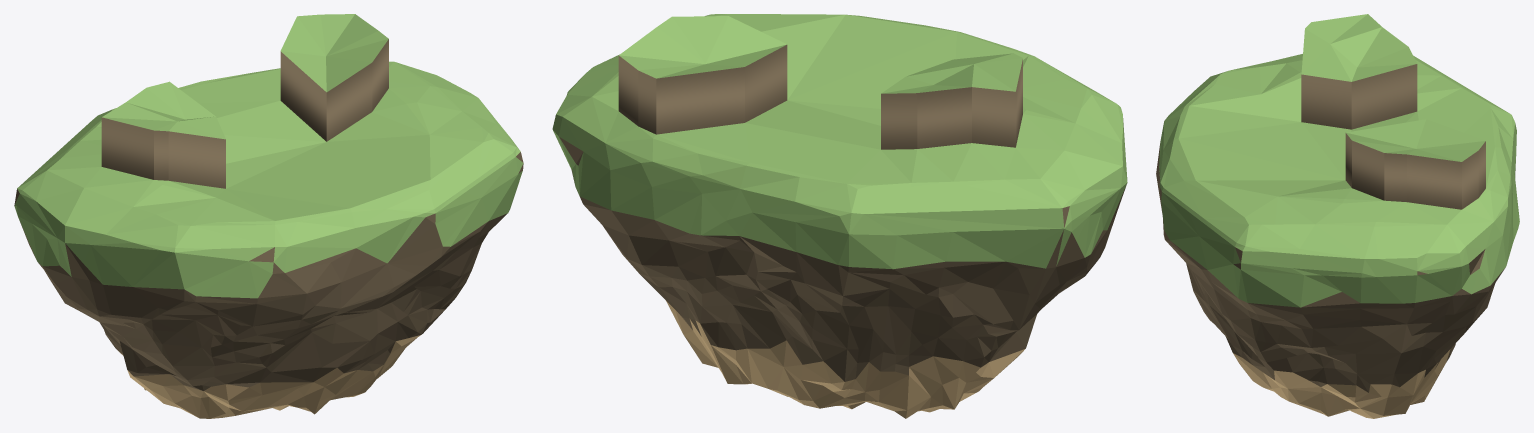
The model's file is floating island og1.fbx.
3 views of the same model, side by side, from view 1: azimuth 30°, elevation 25°; view 2: azimuth 150°, elevation 25°; view 3: azimuth 270°, elevation 25° (orthographic). The views are drawn at different scales.
Visible parts, largest first — view 1: polySurface2; view 2: polySurface2; view 3: polySurface2.
Boxes of the visible parts, bbox=[...] form: polySurface2: bbox=[14, 14, 523, 418]; polySurface2: bbox=[552, 14, 1127, 418]; polySurface2: bbox=[1156, 14, 1519, 418].
Bounding box in the file's own units: 16.09 × 10.68 × 11.79.
